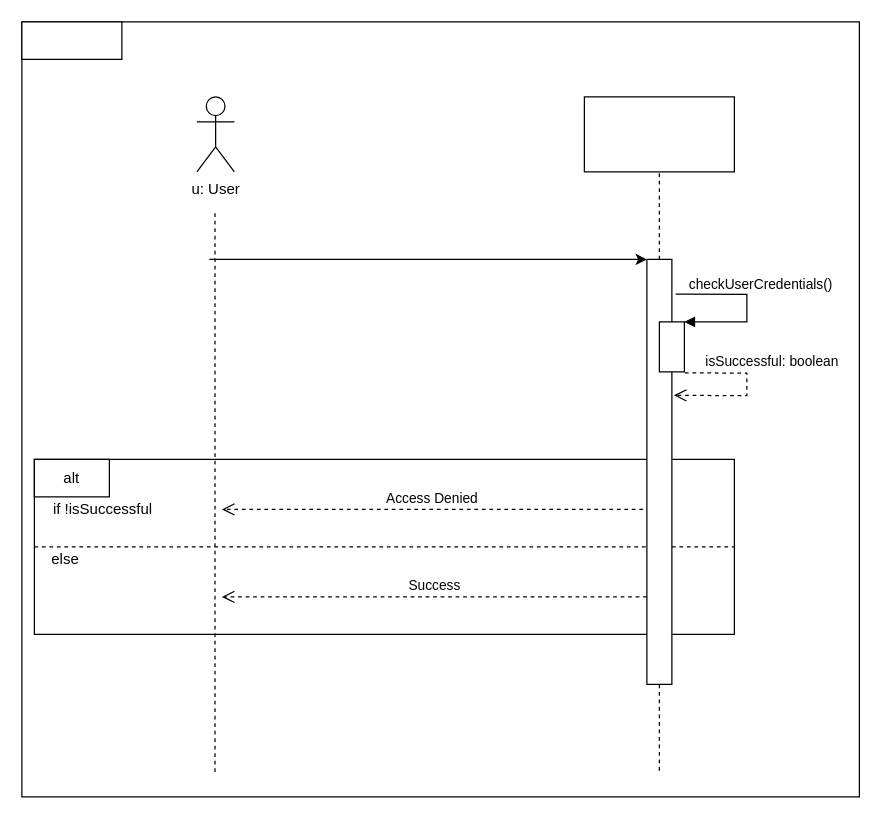
The diagram is 881 pixels wide and 819 high, and some of its shapes have lost their labels. Here are the shapes that lost their labels. From the top down, the centre of each, then its label:
the point at 71,40: login
the point at 658,134: f: Felhasználói adatkezelő
